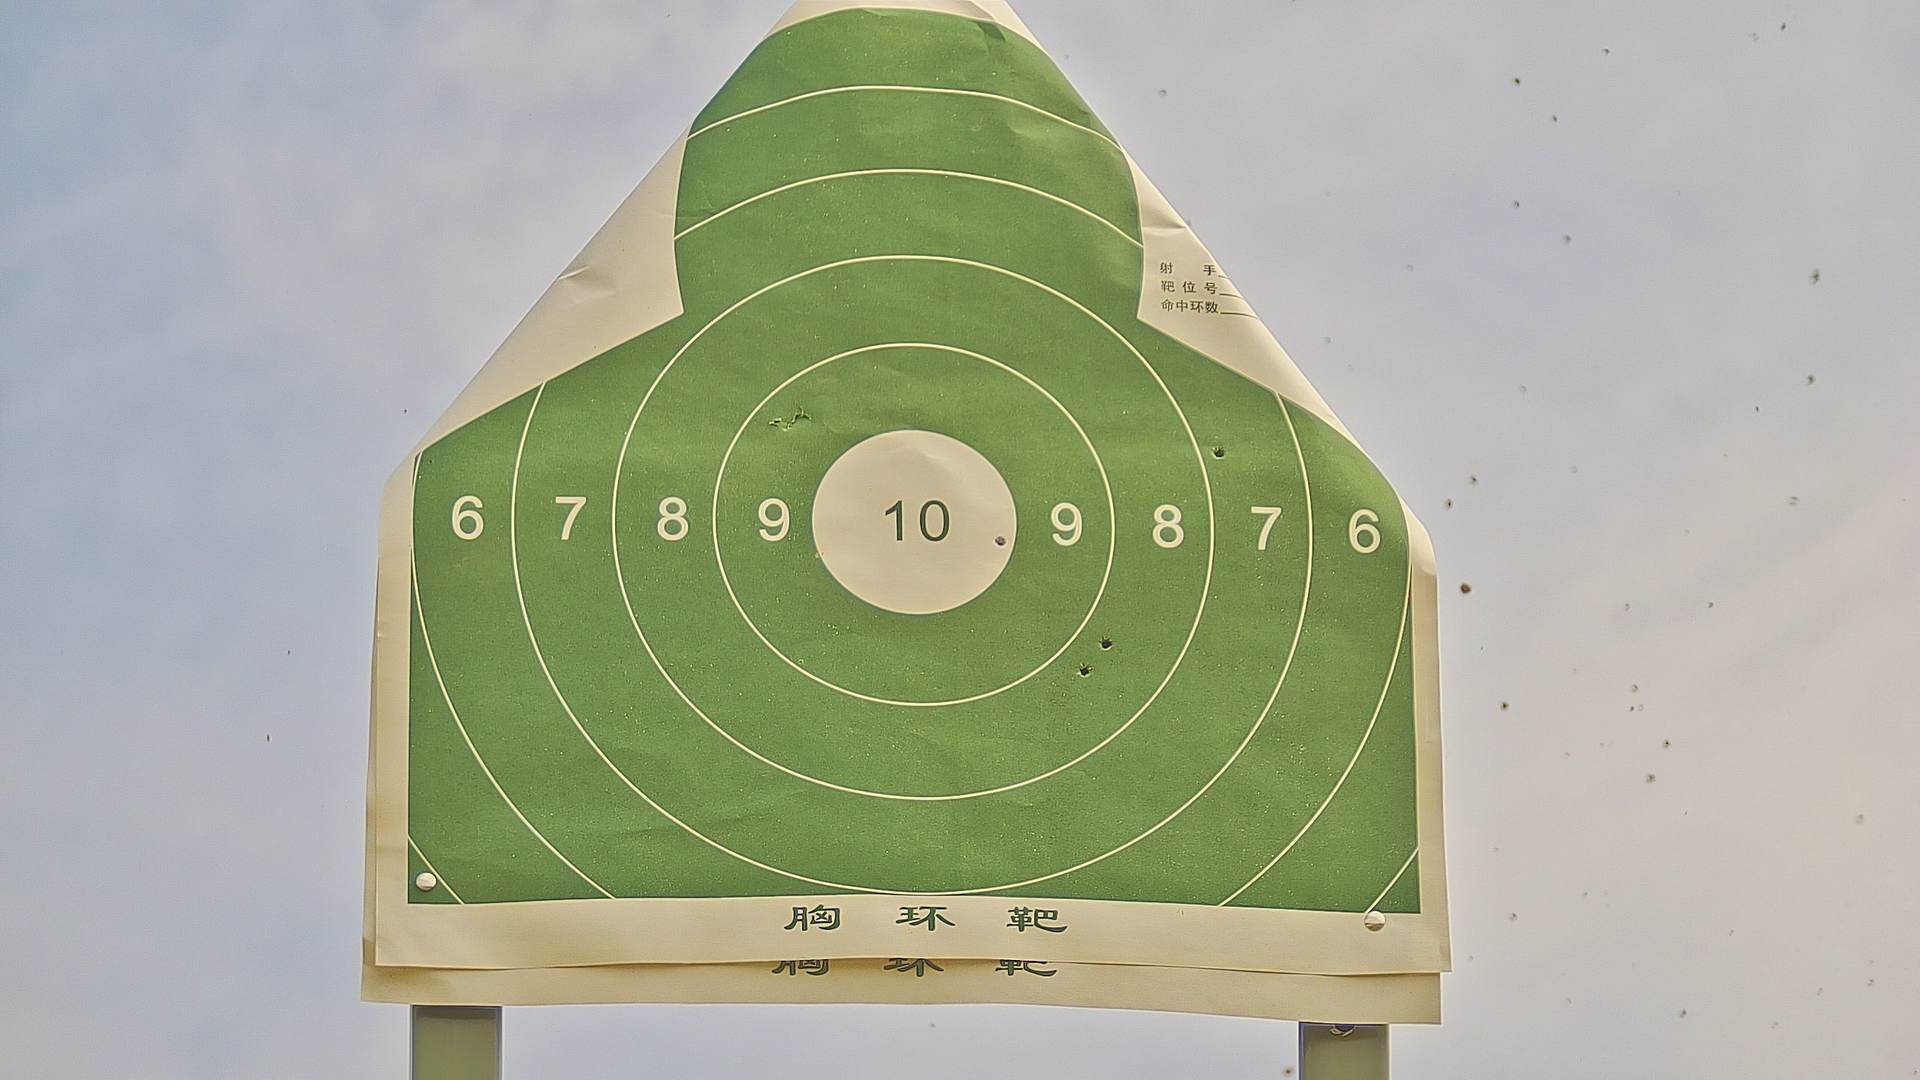hole: (1100, 634, 1116, 655), (993, 530, 1007, 553), (1211, 444, 1226, 462), (1077, 658, 1091, 676)
kernel: (907, 520, 915, 526)
target: (415, 13, 1419, 915)
ten: (808, 431, 1017, 620)
